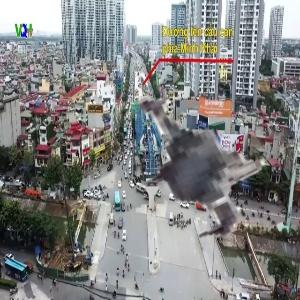drone: (93, 74, 296, 277)
